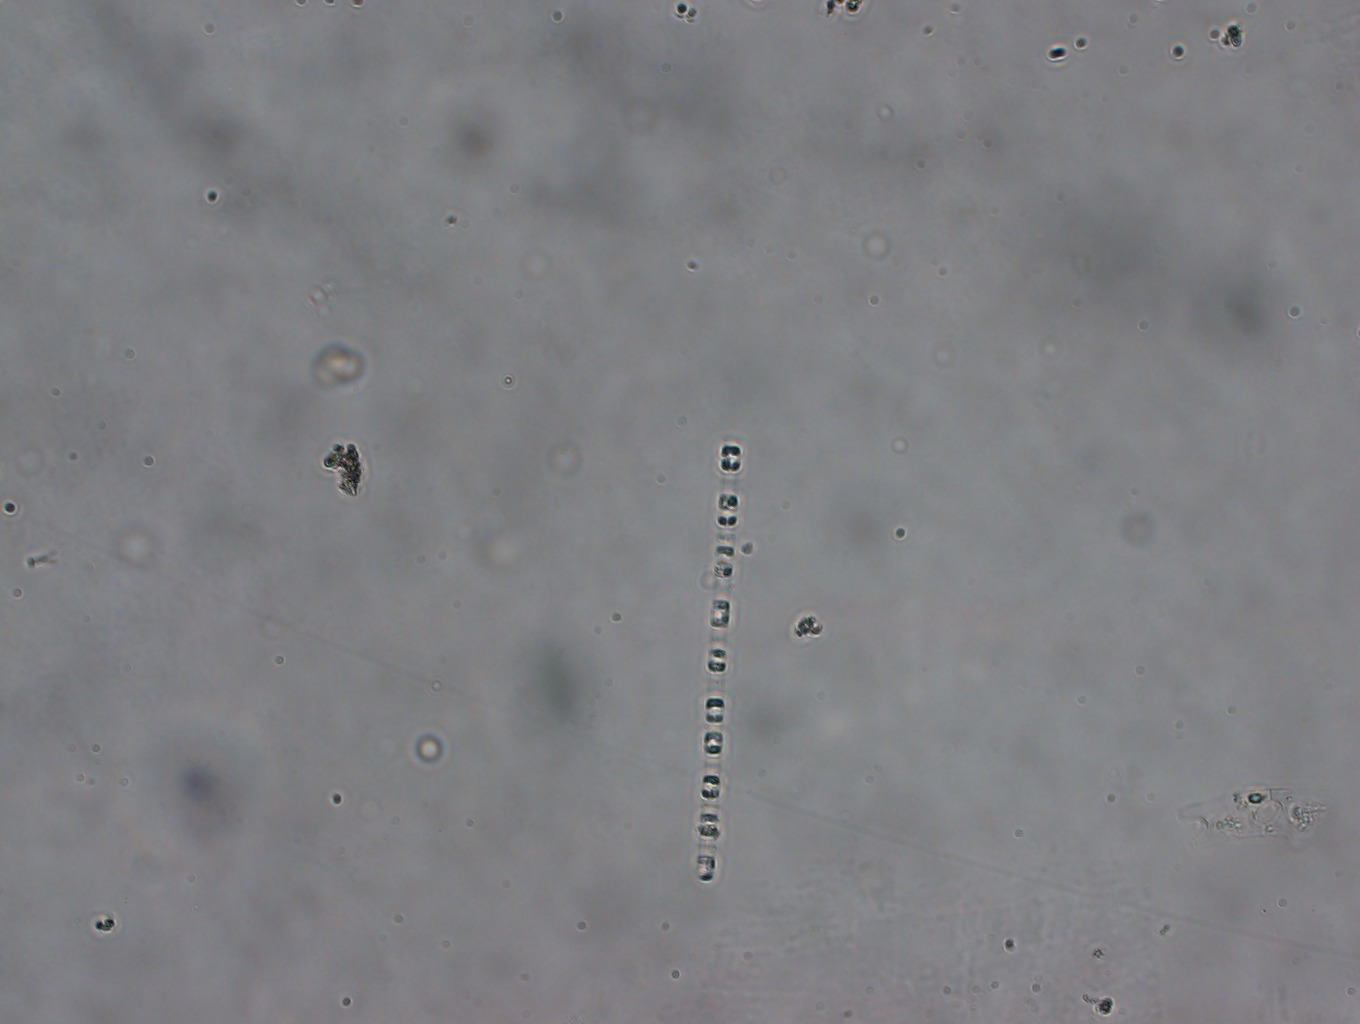skeletonema: (693, 437, 743, 883)
